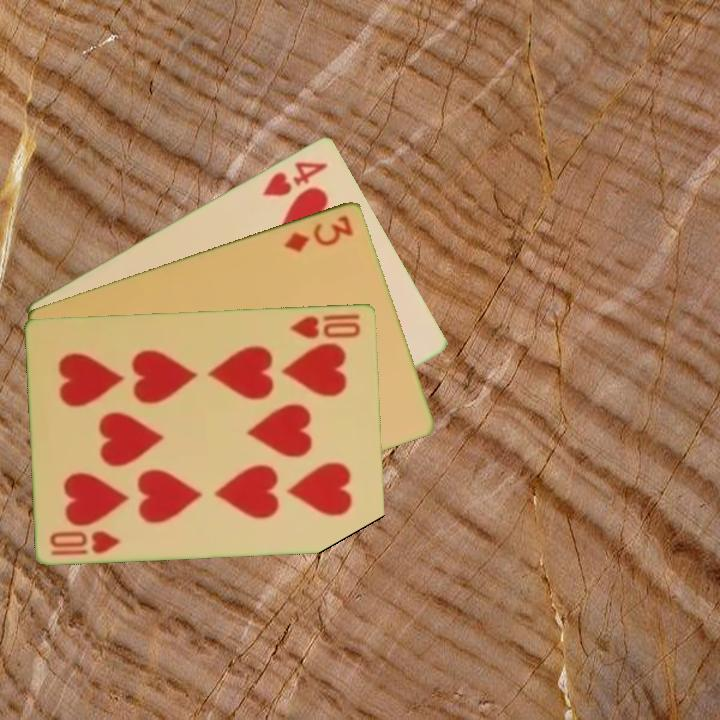10h: (287, 310, 364, 341), (47, 527, 124, 558)
3d: (280, 211, 357, 255)
4h: (259, 157, 331, 199)
